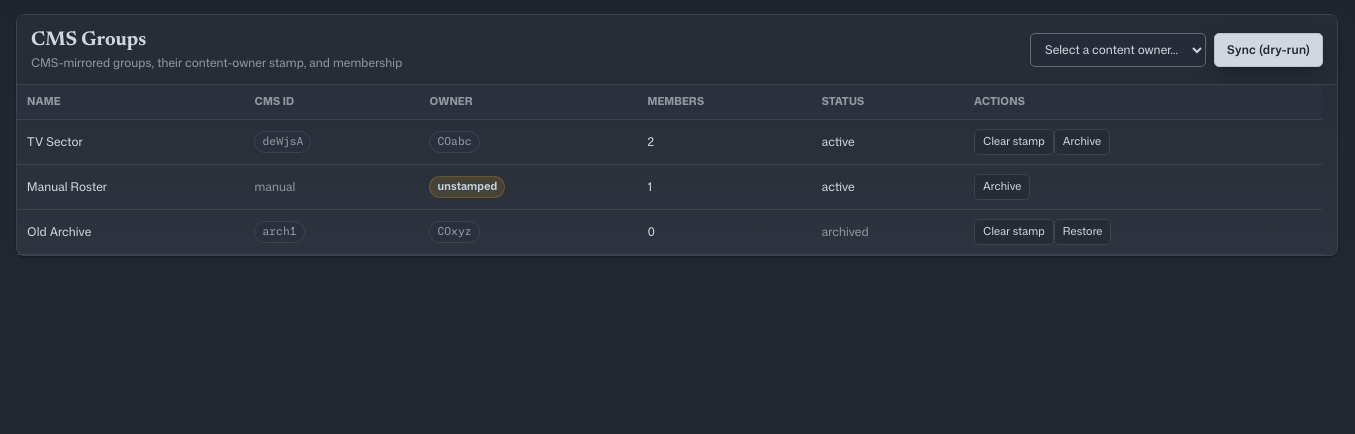
GroupsView clear-stamp flow › keeps the panel open and shows the backend 409 detail verbatim in a banner
The width and height of the screenshot is (1355, 434).
Check: the text "TV Sector" is shown, box x1=17 y1=119 x2=244 y2=164
Click the button "Clear stamp" in the row of "TV Sector".
click(1014, 142)  # box x1=974 y1=129 x2=1054 y2=155
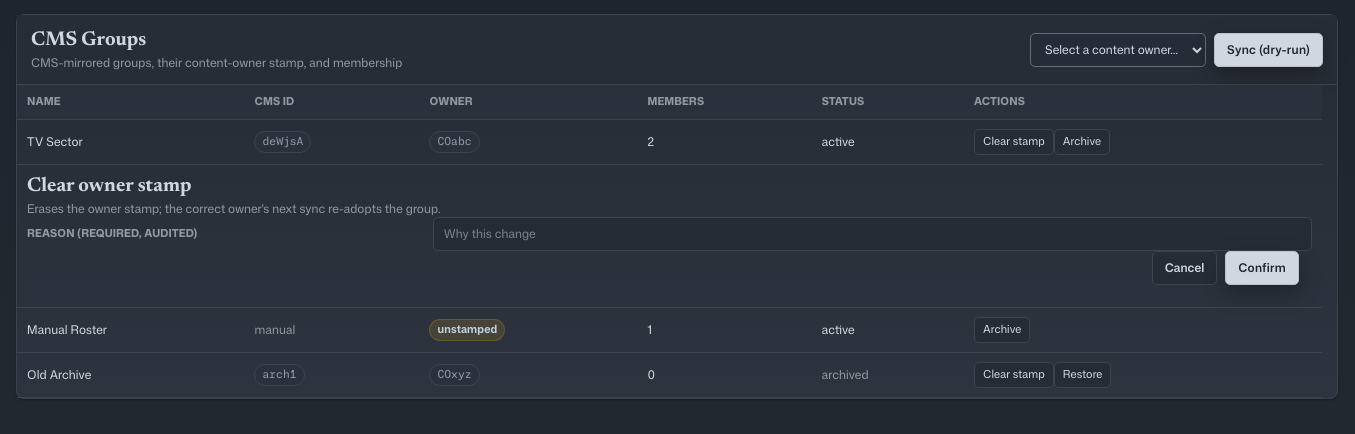
Type "wrong owner stamp" into the field labelled "Reason (required, audited)".
click(872, 234); type("wrong owner stamp")  # box x1=433 y1=217 x2=1312 y2=251
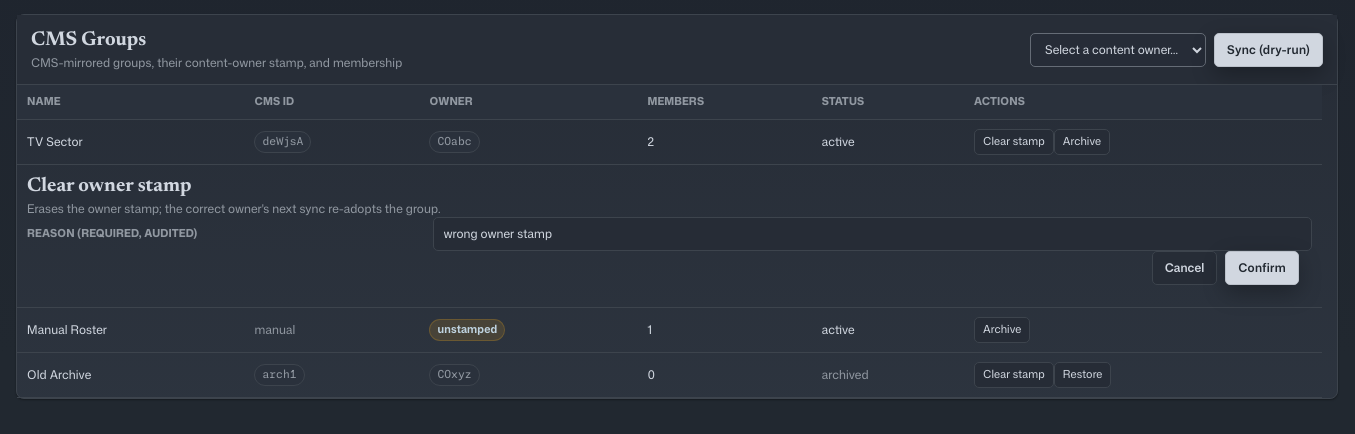
Click the button "Confirm".
click(1262, 268)  # box x1=1225 y1=251 x2=1299 y2=285
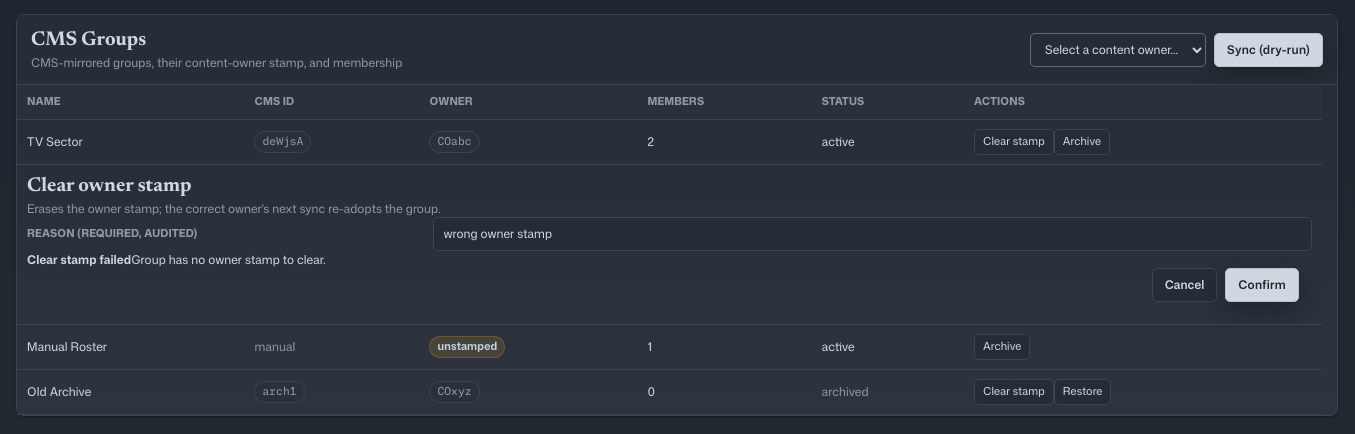
Check: the button "Confirm" is shown, box x1=1225 y1=268 x2=1299 y2=302
Check: the text "Group has no owner stamp to clear." is shown, box x1=131 y1=251 x2=326 y2=268
